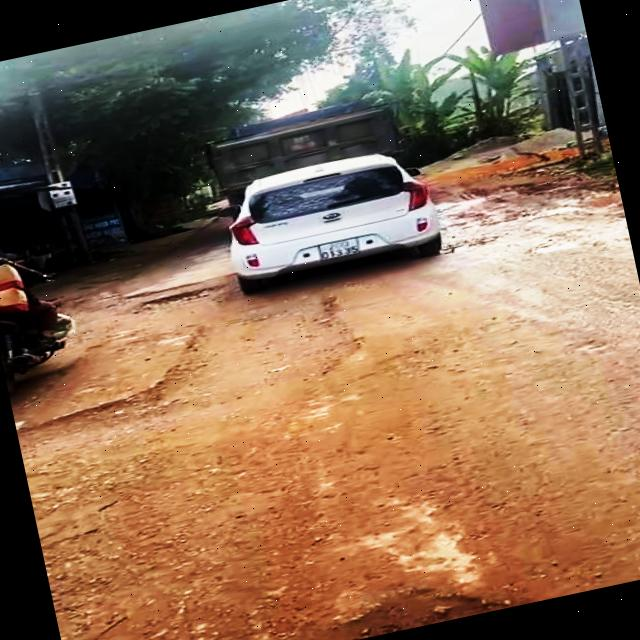pothole: (10, 324, 373, 451), (309, 561, 526, 640), (119, 280, 234, 320)
